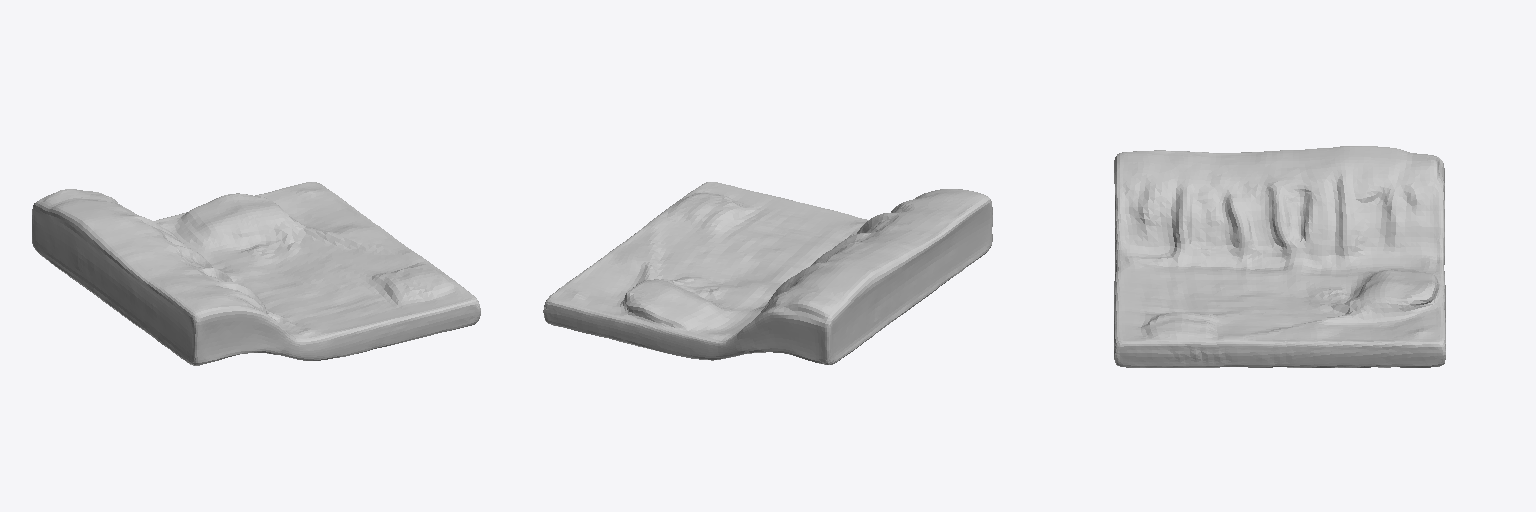
Rendered from 8753d01c7973_A_swampy_water_stre.obj.
3 views of the same model, side by side, from view 1: azimuth 30°, elevation 25°; view 2: azimuth 150°, elevation 25°; view 3: azimuth 270°, elevation 25° (orthographic).
Parts seen in each view (by area): view 1: mesh; view 2: mesh; view 3: mesh.
Part boxes in pixels (left/top/right/bottom): mesh: left=32, top=182, right=480, bottom=365; mesh: left=543, top=182, right=992, bottom=364; mesh: left=1114, top=146, right=1445, bottom=367.
Size of the model in its own units: 0.9995 by 0.2874 by 0.9994.